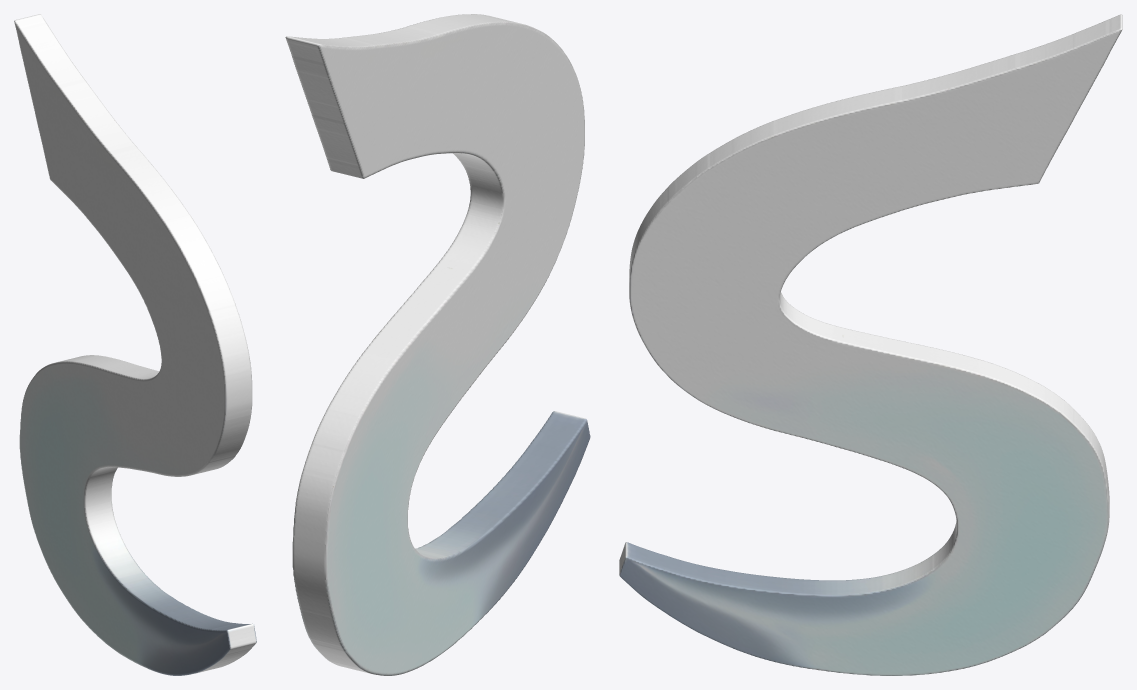
File: lettera s 3d modello.glb
3 views of the same model, side by side, from view 1: azimuth 30°, elevation 25°; view 2: azimuth 150°, elevation 25°; view 3: azimuth 270°, elevation 25° (orthographic). The views are drawn at different scales.
Parts seen in each view (by area): view 1: tripo_node_3efabd8e-01cc-47c1-b423-fe89a100a66a; view 2: tripo_node_3efabd8e-01cc-47c1-b423-fe89a100a66a; view 3: tripo_node_3efabd8e-01cc-47c1-b423-fe89a100a66a.
Part boxes in pixels (bbox=[...]): tripo_node_3efabd8e-01cc-47c1-b423-fe89a100a66a: bbox=[14, 14, 256, 675]; tripo_node_3efabd8e-01cc-47c1-b423-fe89a100a66a: bbox=[285, 14, 590, 675]; tripo_node_3efabd8e-01cc-47c1-b423-fe89a100a66a: bbox=[619, 14, 1122, 675].
Size of the model in its own units: 0.0515 by 1 by 0.7043.
Materials: 1 (1 with a texture image).
